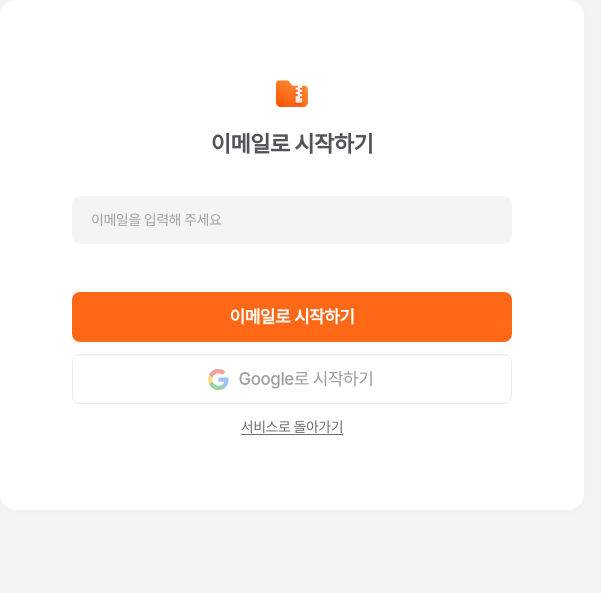
AuthEntryPage › shows the password form for an existing local account
The image size is (601, 593).
Type "member@example.com" into the field labelled "이메일". click: (292, 220)
box: [91,209,493,231]
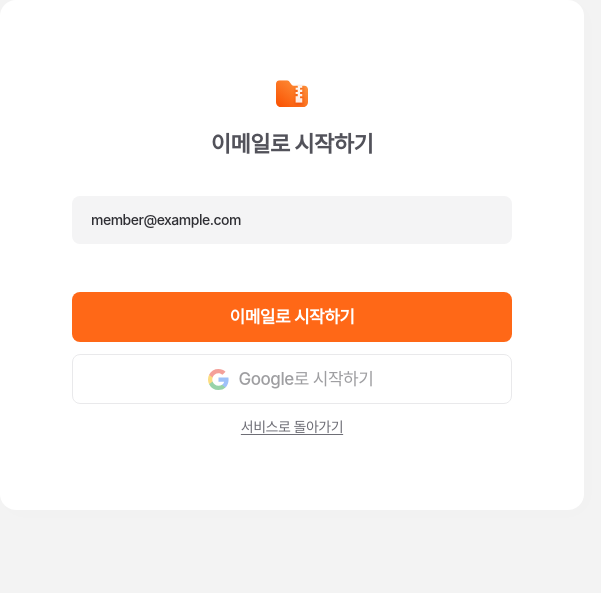
Click the button "이메일로 시작하기". click: (292, 317)
box: [72,292,512,342]
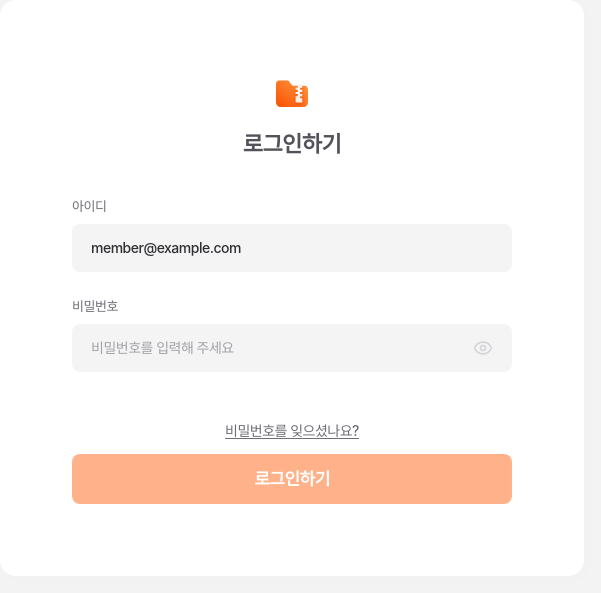
Result: the heading "로그인하기" is shown at [243,128,341,160]
Result: the password field with placeholder "비밀번호를 입력해 주세요" is shown at [91,337,465,359]
